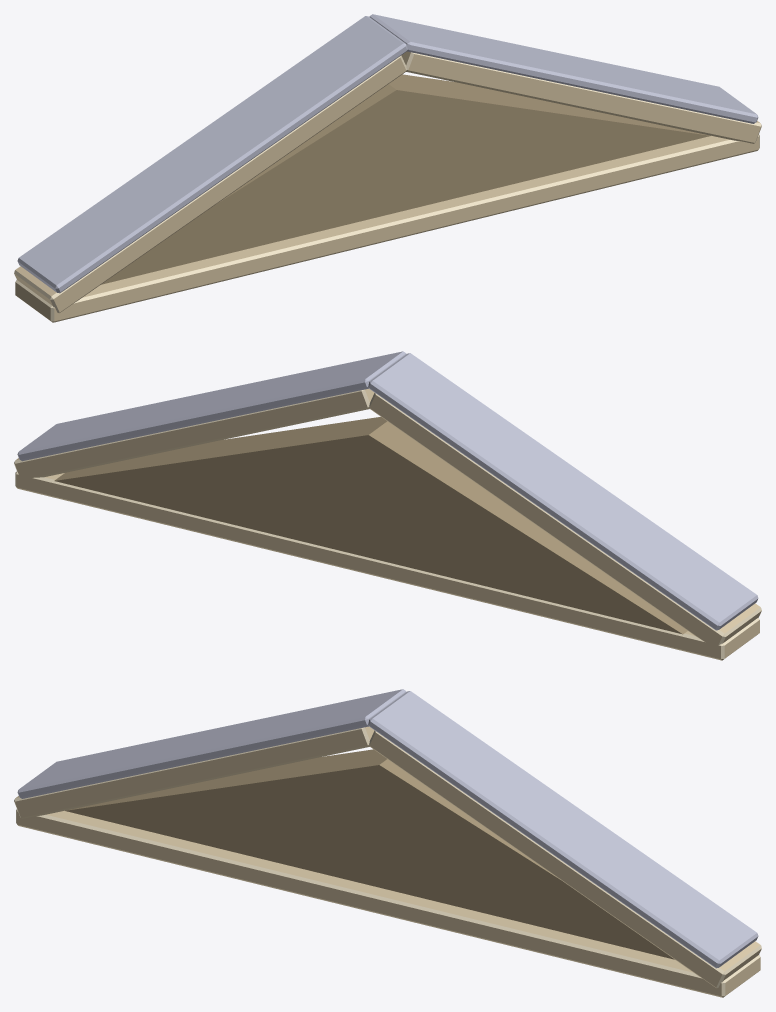
File: Pediment_24.fbx
The picture shows the model from 3 angles, top to bottom: view 1: azimuth 30°, elevation 25°; view 2: azimuth 150°, elevation 25°; view 3: azimuth 330°, elevation 25°; orthographic projection.
Parts seen in each view (by area): view 1: Pediment_24; view 2: Pediment_24; view 3: Pediment_24.
Part boxes in pixels (x1,y1,x2,y2): Pediment_24: [14, 14, 761, 322]; Pediment_24: [14, 351, 761, 660]; Pediment_24: [14, 689, 761, 997].
Bounding box in the file's own units: 24.89 × 6.53 × 2.45.
Materials: 1 (1 with a texture image).
